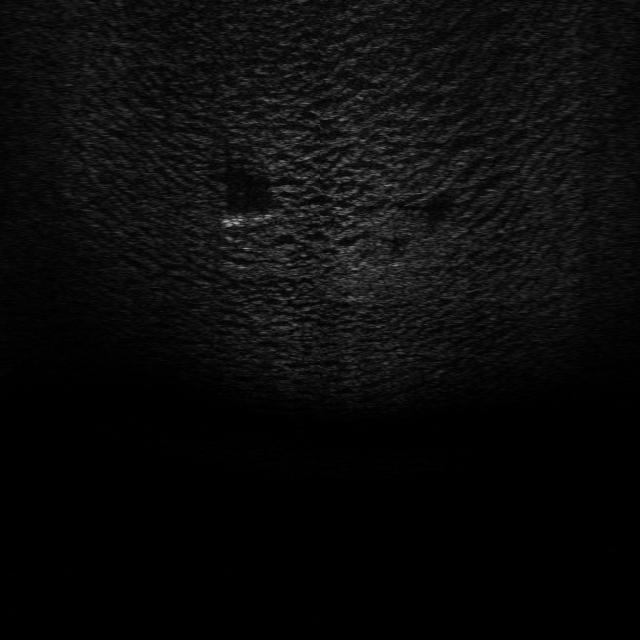plane: (217, 208, 279, 228)
